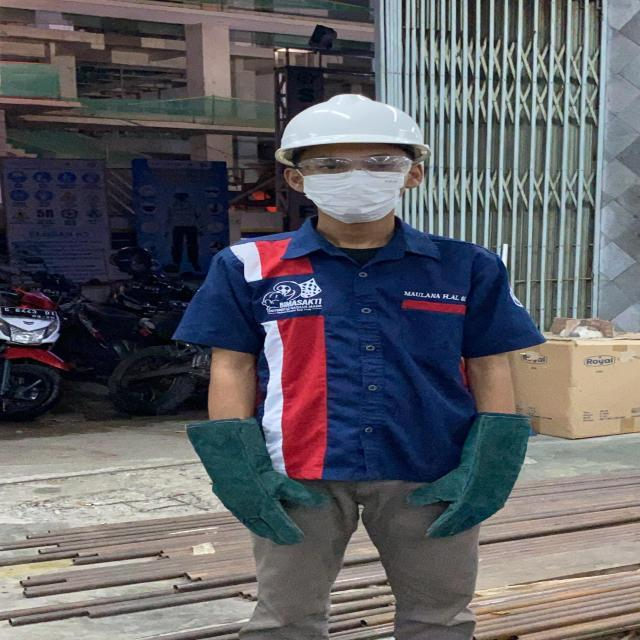glasses: (290, 152, 420, 179)
